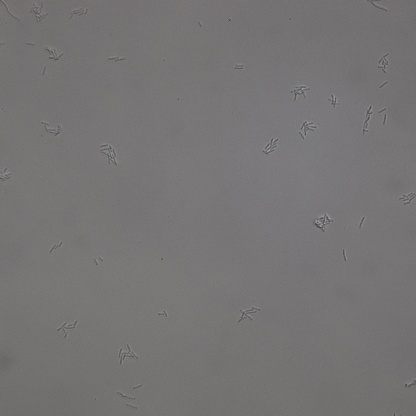R(colony): (116, 343, 140, 367), (56, 318, 78, 339), (100, 143, 118, 167), (237, 306, 261, 324), (30, 1, 48, 23), (297, 120, 317, 139), (361, 106, 374, 135), (290, 85, 311, 102), (262, 137, 279, 157), (41, 121, 62, 135), (377, 53, 389, 74), (45, 48, 63, 61)
